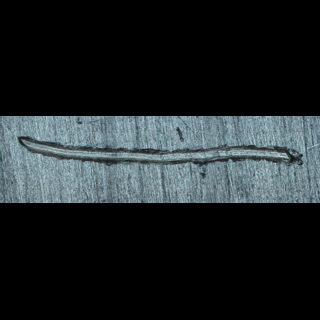d: (16, 133, 306, 173)
